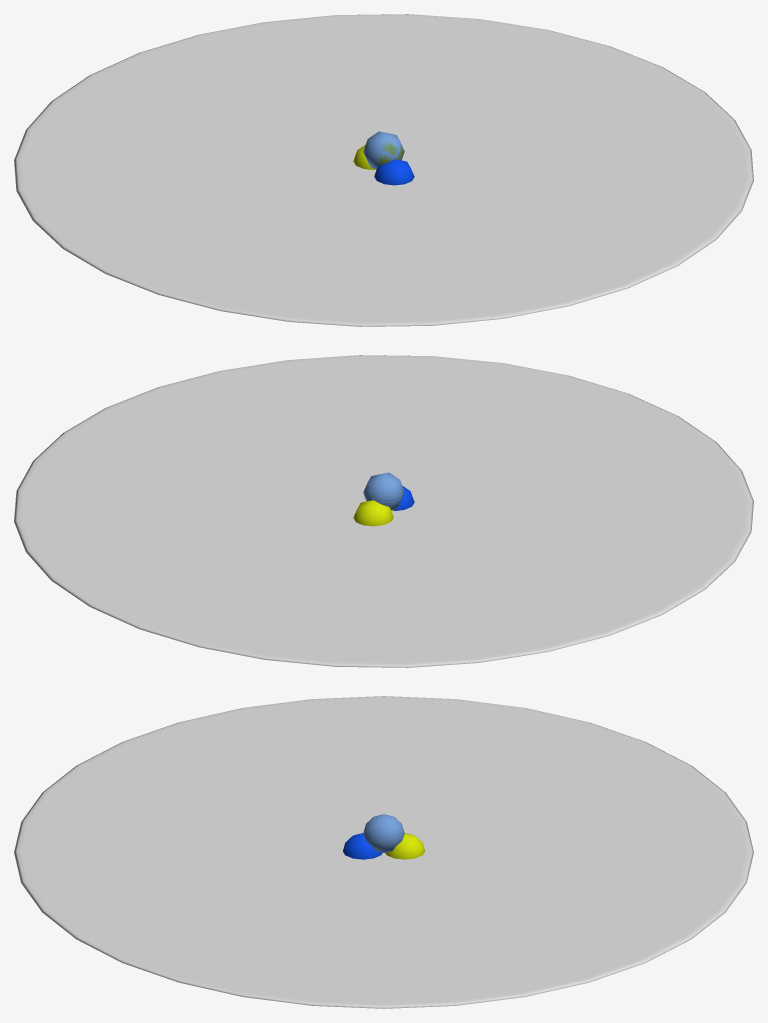
File: PurificazioneAcqua.fbx
3 views of the same model, one above another, from view 1: azimuth 30°, elevation 25°; view 2: azimuth 150°, elevation 25°; view 3: azimuth 270°, elevation 25° (orthographic).
Parts seen in each view (by area): view 1: MembranaPorosa, Molecola_Pulita, Molecola_Sporca; view 2: MembranaPorosa, Molecola_Pulita, Molecola_Sporca; view 3: MembranaPorosa, Molecola_Pulita, Molecola_Sporca.
Part boxes in pixels (<box>): MembranaPorosa: <box>14,14,753,326</box>; Molecola_Pulita: <box>363,131,414,185</box>; Molecola_Sporca: <box>353,141,403,170</box>; MembranaPorosa: <box>14,355,753,667</box>; Molecola_Pulita: <box>363,472,414,510</box>; Molecola_Sporca: <box>353,500,393,526</box>; MembranaPorosa: <box>14,696,753,1008</box>; Molecola_Pulita: <box>343,814,404,859</box>; Molecola_Sporca: <box>376,816,424,859</box>.
Size of the model in its own units: 8.07 by 0.9067 by 8.07.
